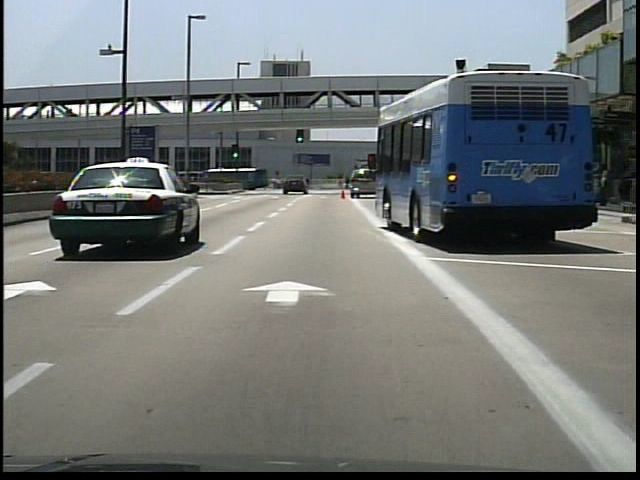person: (343, 175, 352, 191)
